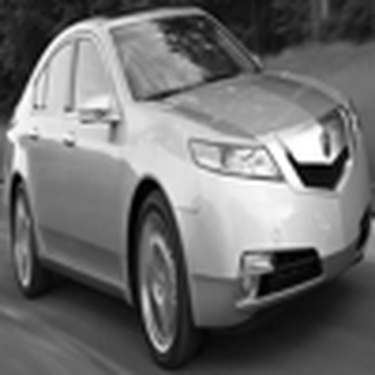car: (3, 2, 369, 372)
